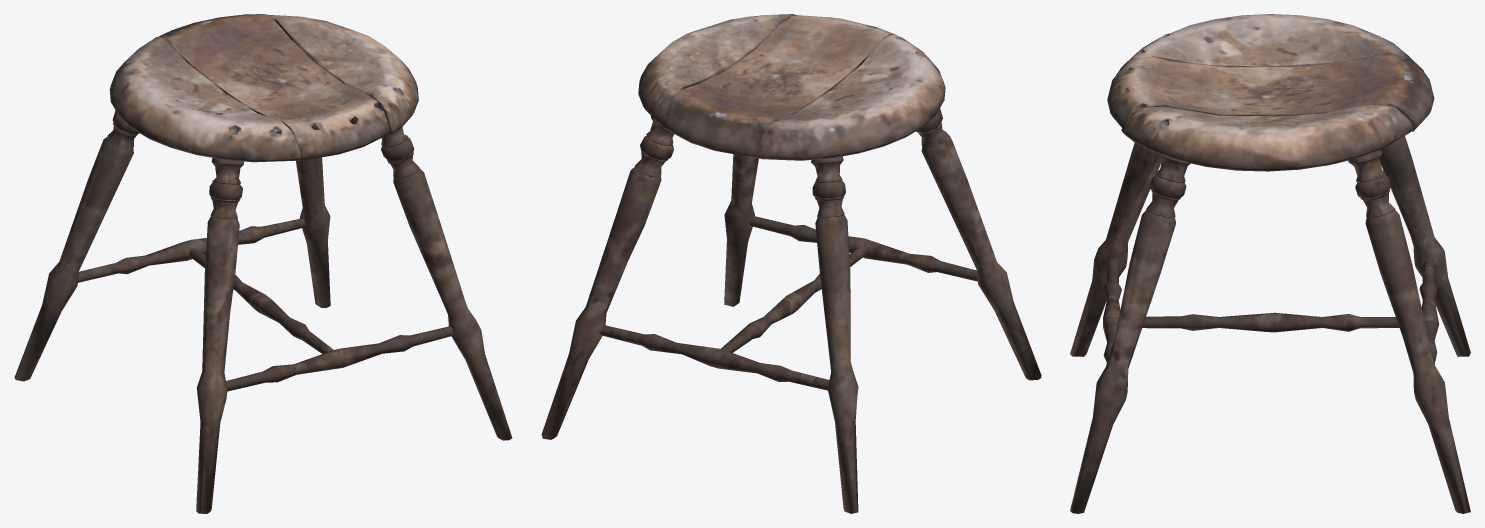
Rendered from wooden_stool_01.glb.
3 views of the same model, side by side, from view 1: azimuth 30°, elevation 25°; view 2: azimuth 150°, elevation 25°; view 3: azimuth 270°, elevation 25° (orthographic). The views are drawn at different scales.
Visible parts, largest first — view 1: wooden_stool_01; view 2: wooden_stool_01; view 3: wooden_stool_01.
Boxes of the visible parts, box(x1,y1,x2,y2) form: wooden_stool_01: box(14, 14, 512, 513); wooden_stool_01: box(541, 14, 1041, 513); wooden_stool_01: box(1070, 14, 1470, 513).
Bounding box in the file's own units: 0.4246 × 0.4365 × 0.4411.
1 material, 1 textured.
